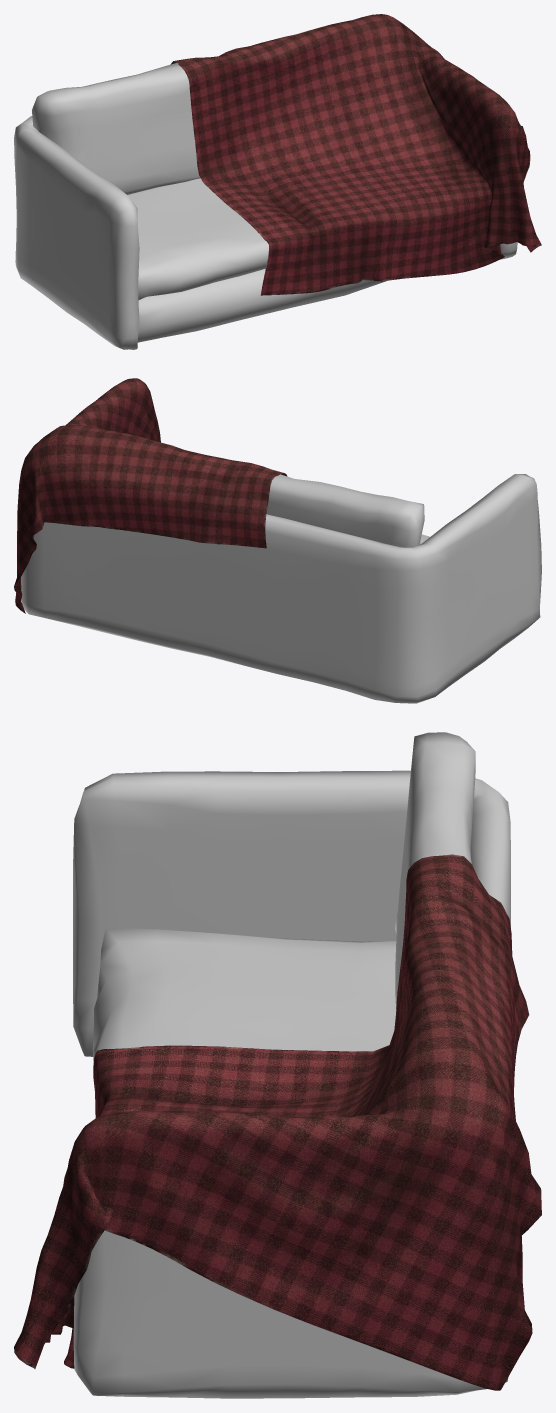
File: Sofa&Blanket.fbx
3 renders of one model, top to bottom at view 1: azimuth 30°, elevation 25°; view 2: azimuth 150°, elevation 25°; view 3: azimuth 270°, elevation 25°, orthographic. The views are drawn at different scales.
Visible parts, largest first — view 1: Retopo_Plane.002, Sofa; view 2: Sofa, Retopo_Plane.002; view 3: Retopo_Plane.002, Sofa.
Part boxes in pixels (<box>): Retopo_Plane.002: <box>170,14,541,295</box>; Sofa: <box>14,63,517,349</box>; Sofa: <box>21,474,541,703</box>; Retopo_Plane.002: <box>14,378,287,613</box>; Retopo_Plane.002: <box>14,854,541,1390</box>; Sofa: <box>73,732,510,1398</box>.
Size of the model in its own units: 2078 by 879 by 1249.
